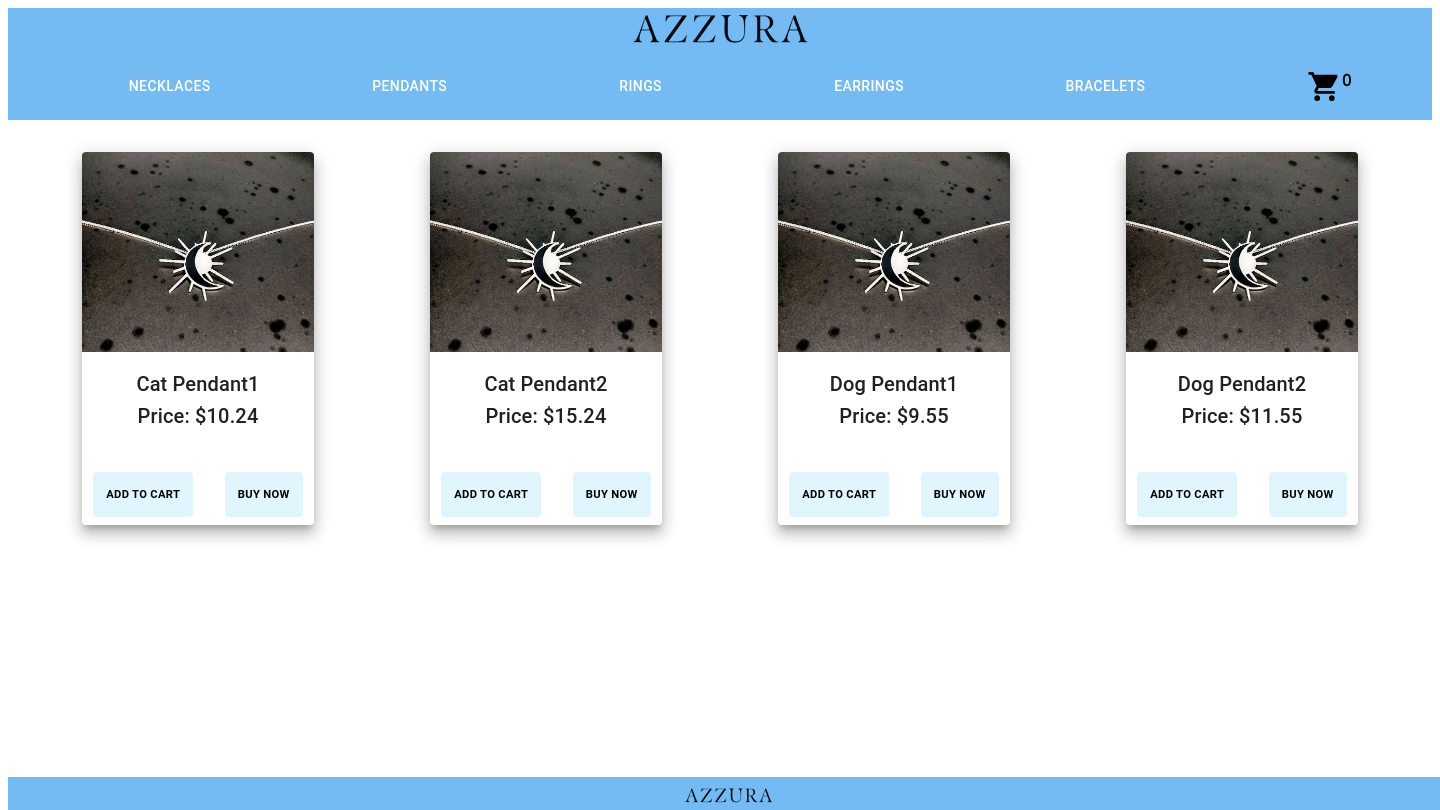
Scenario: add item to cart
Click the 1st button "Add to Cart" at (143, 495), box top-left (94, 472), bottom-right (193, 517)
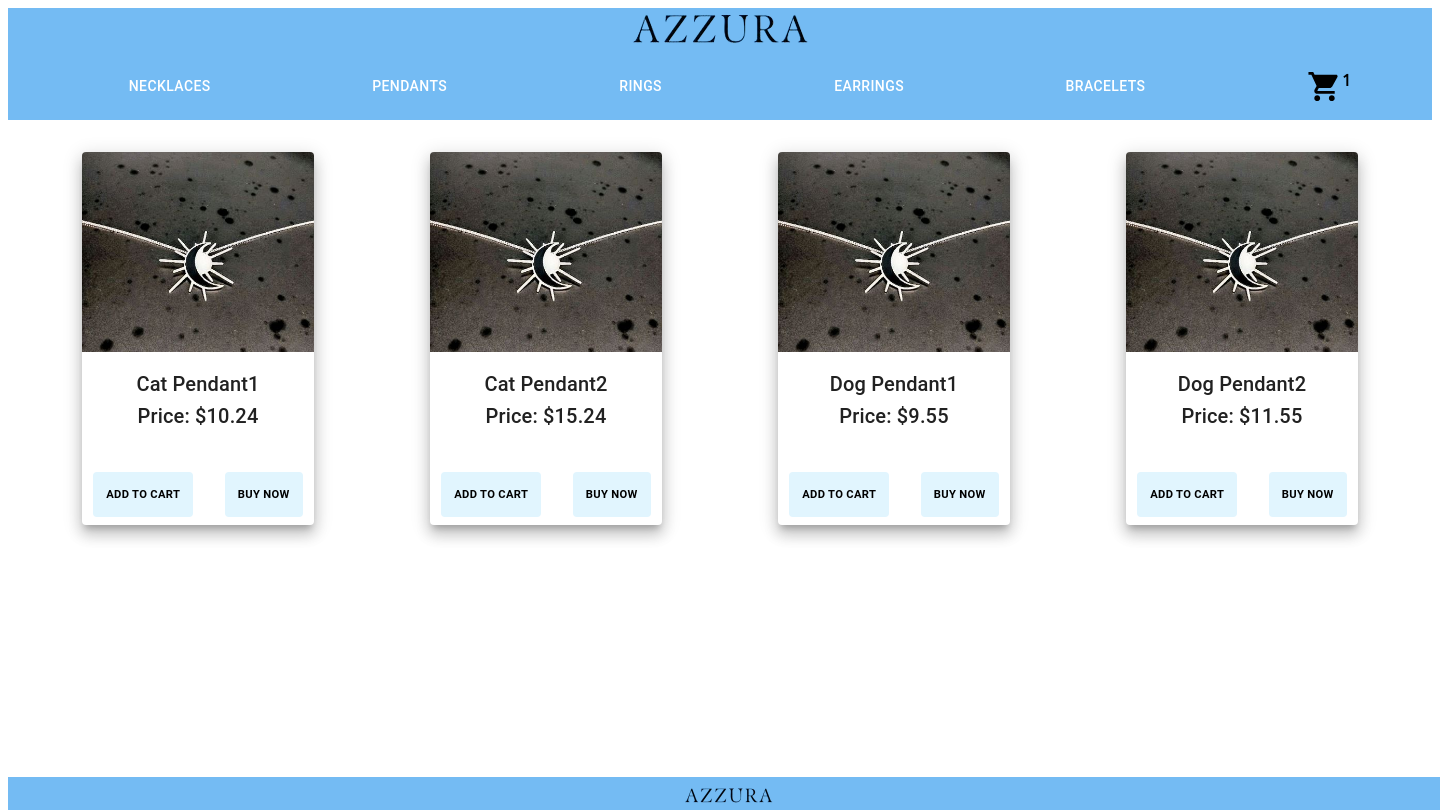
Result: the text with test id "itemsOnCart" reads "1" at top-left (1342, 69), bottom-right (1351, 91)
